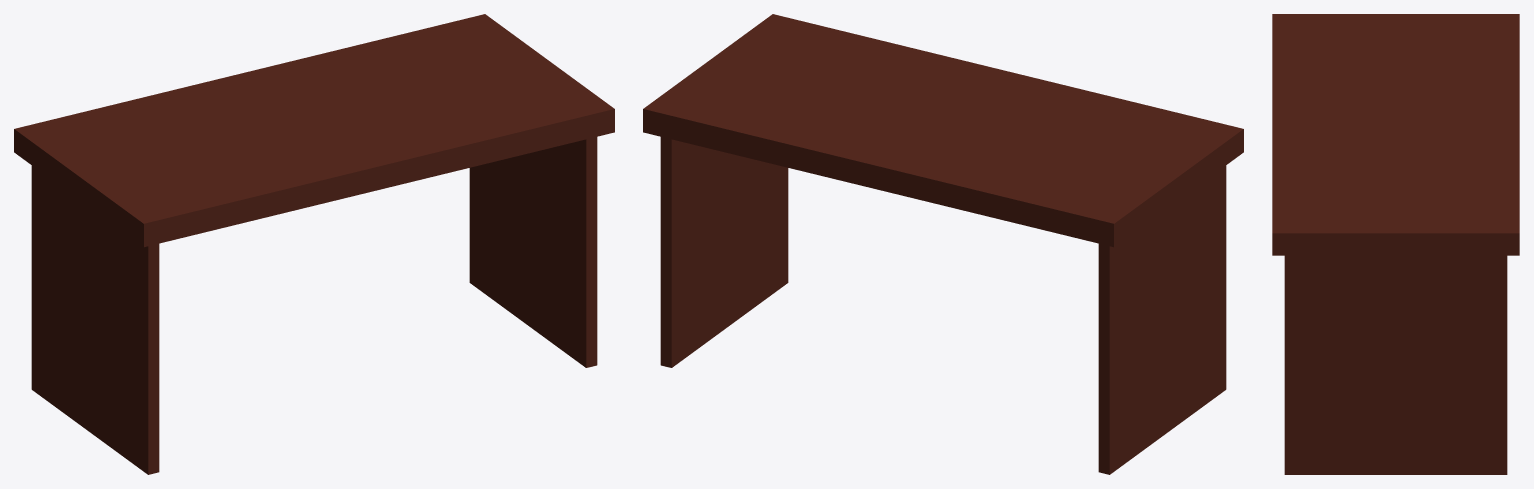
The model's file is stol.fbx.
3 views of the same model, side by side, from view 1: azimuth 30°, elevation 25°; view 2: azimuth 150°, elevation 25°; view 3: azimuth 270°, elevation 25° (orthographic). The views are drawn at different scales.
Visible parts, largest first — view 1: Cube; view 2: Cube; view 3: Cube.
Part boxes in pixels (bbox=[...]): Cube: bbox=[14, 14, 614, 474]; Cube: bbox=[643, 14, 1243, 474]; Cube: bbox=[1272, 14, 1519, 474].
Bounding box in the file's own units: 419 × 220 × 200.
